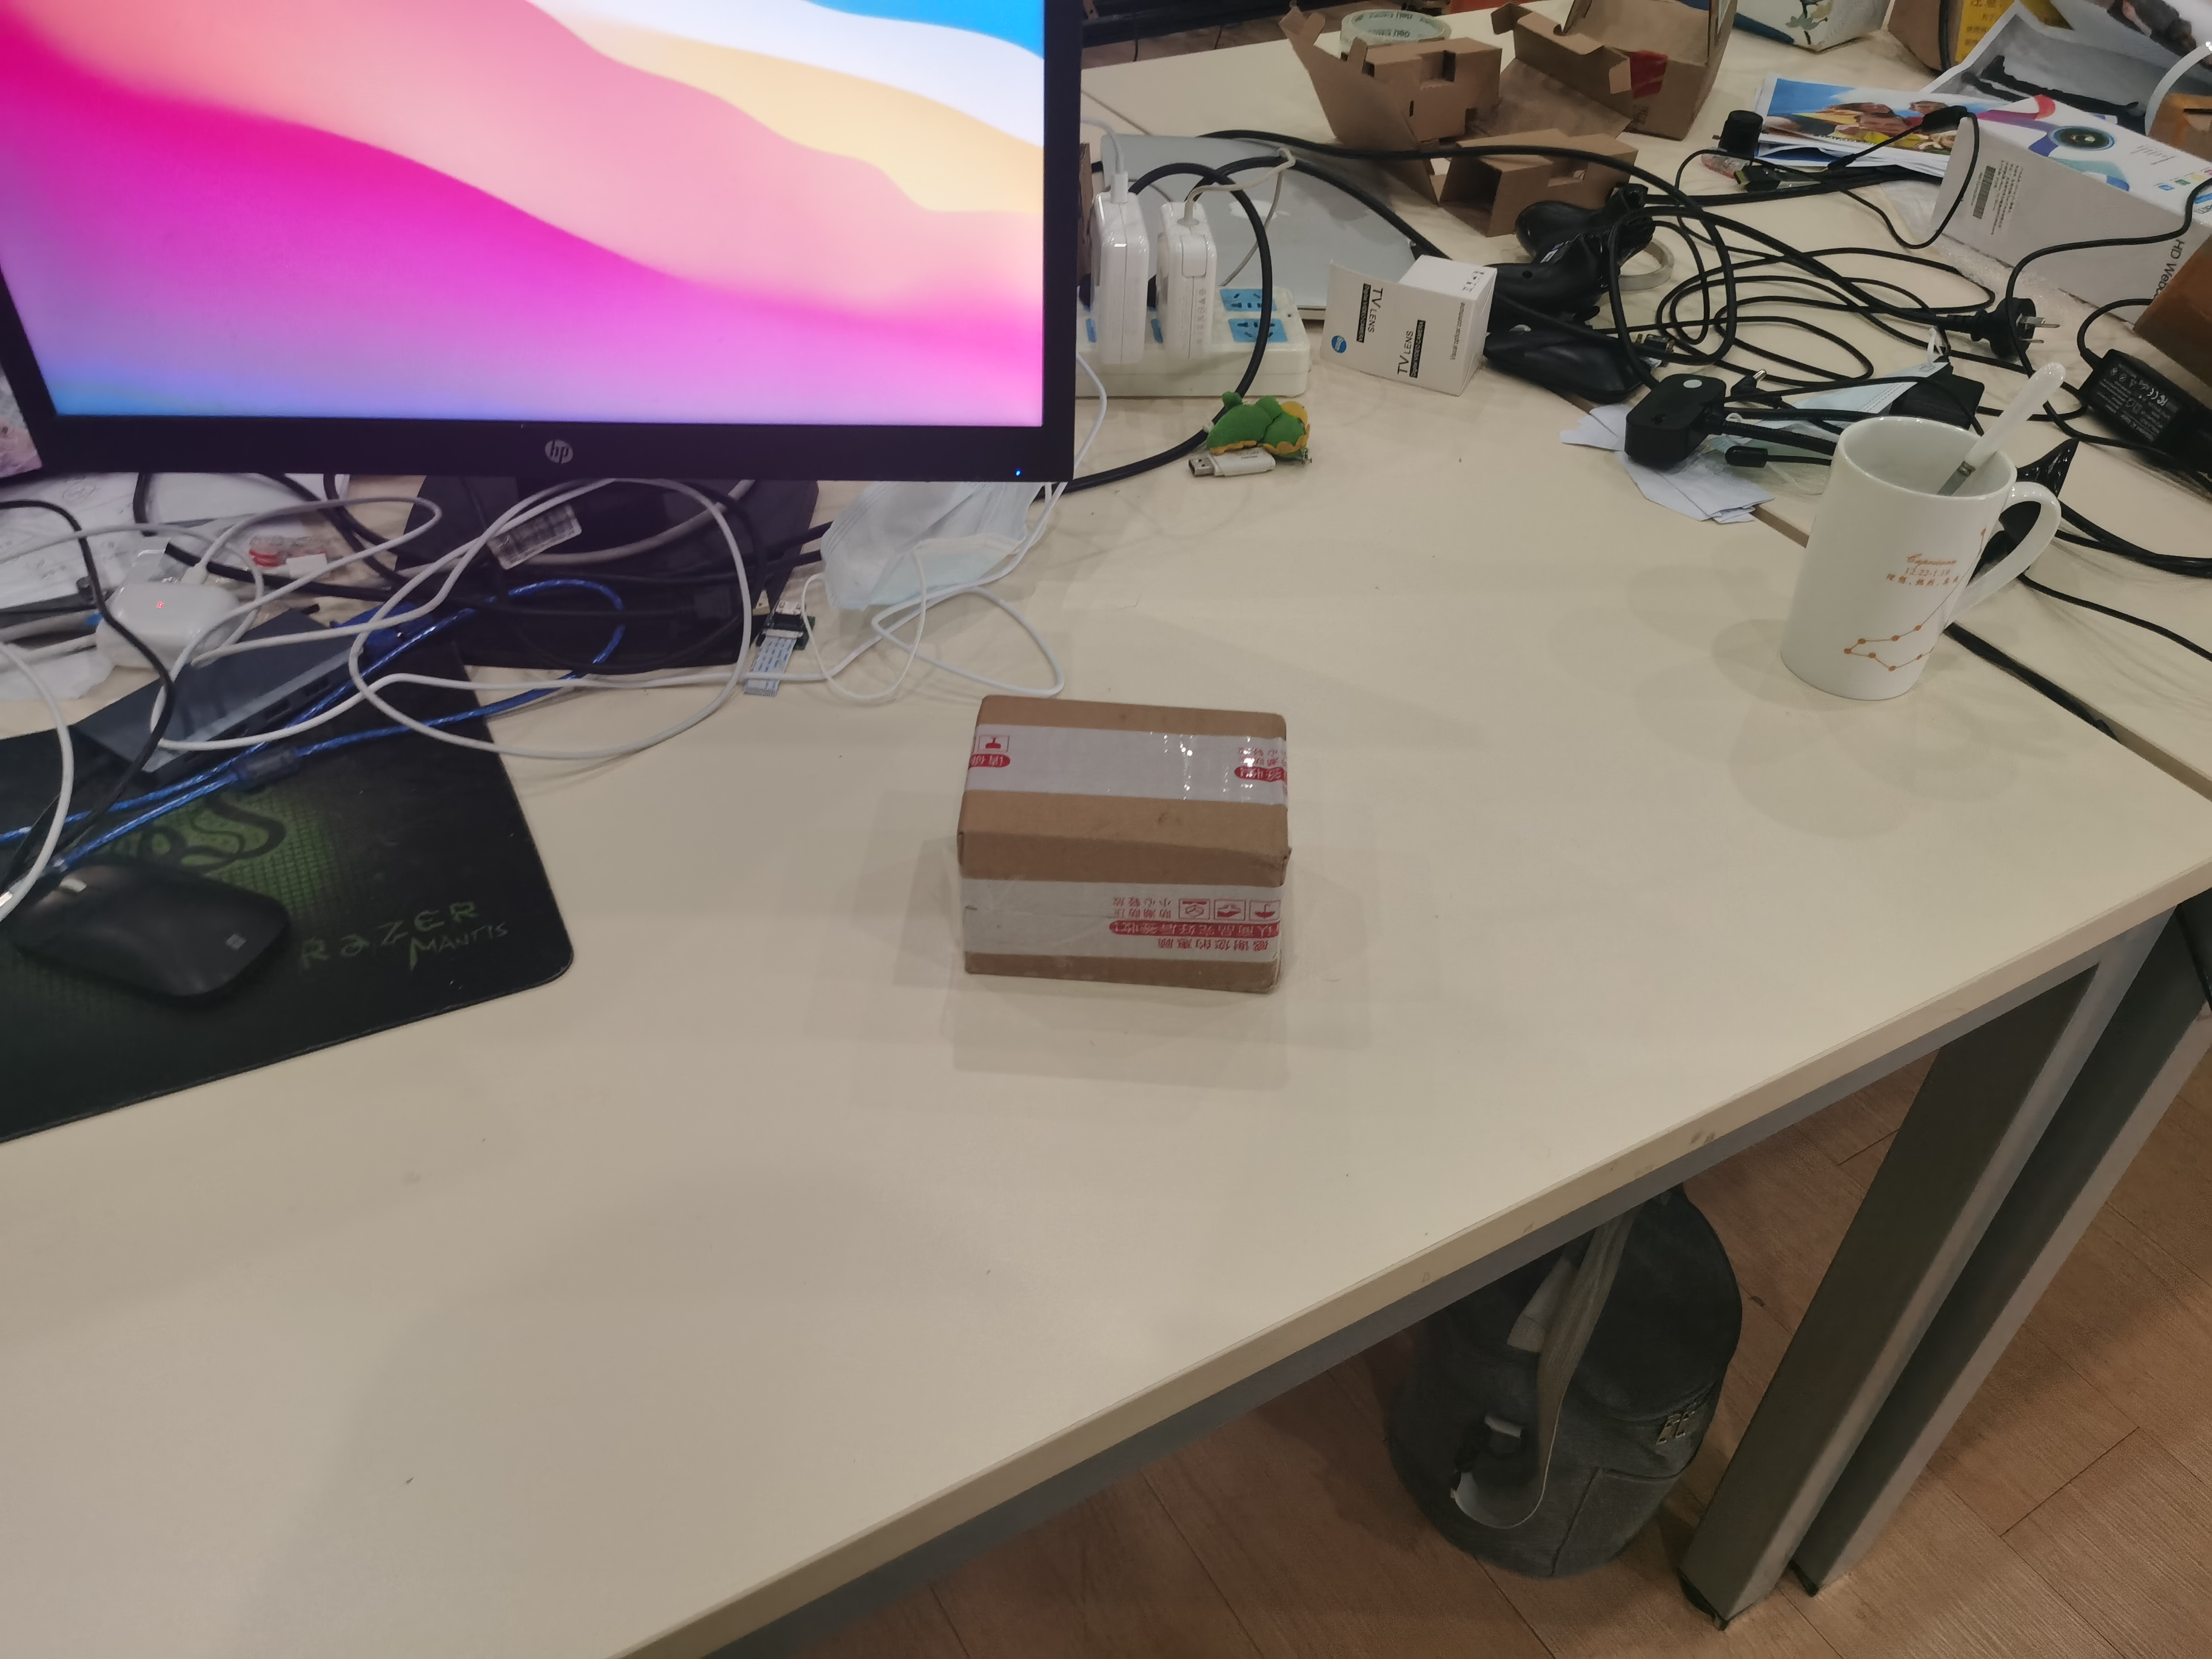box: (953, 683, 1299, 1002)
